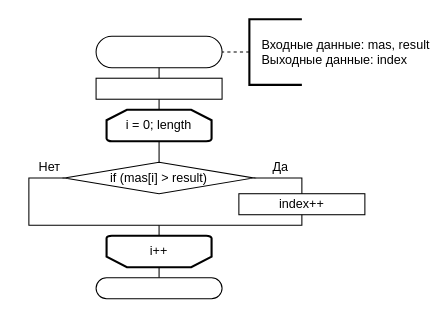
The diagram is 448 pixels wide and 317 high, and some of its shapes have lost their labels. The shapes that lost their labels are listed below. From the top down, each one's box as (x1, y1, x2, y2) in pixels, then its label:
(95, 35, 222, 68): Начало
(95, 77, 222, 99): index = 0
(95, 277, 222, 299): Конец
